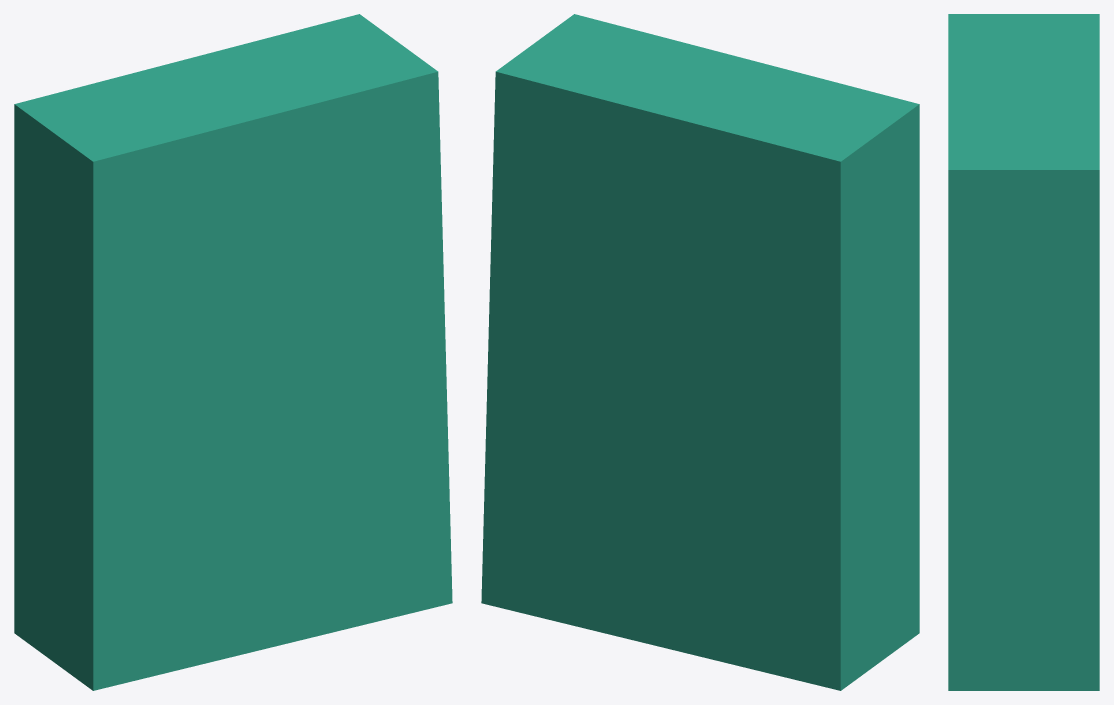
3 renders of one model, left to right at view 1: azimuth 30°, elevation 25°; view 2: azimuth 150°, elevation 25°; view 3: azimuth 270°, elevation 25°, orthographic. The views are drawn at different scales.
Visible parts, largest first — view 1: geometry_0; view 2: geometry_0; view 3: geometry_0.
Part boxes in pixels (left/top/right/bottom): geometry_0: left=14, top=14, right=452, bottom=690; geometry_0: left=481, top=14, right=919, bottom=690; geometry_0: left=948, top=14, right=1099, bottom=690.
Bounding box in the file's own units: 7.91 × 11.25 × 3.
